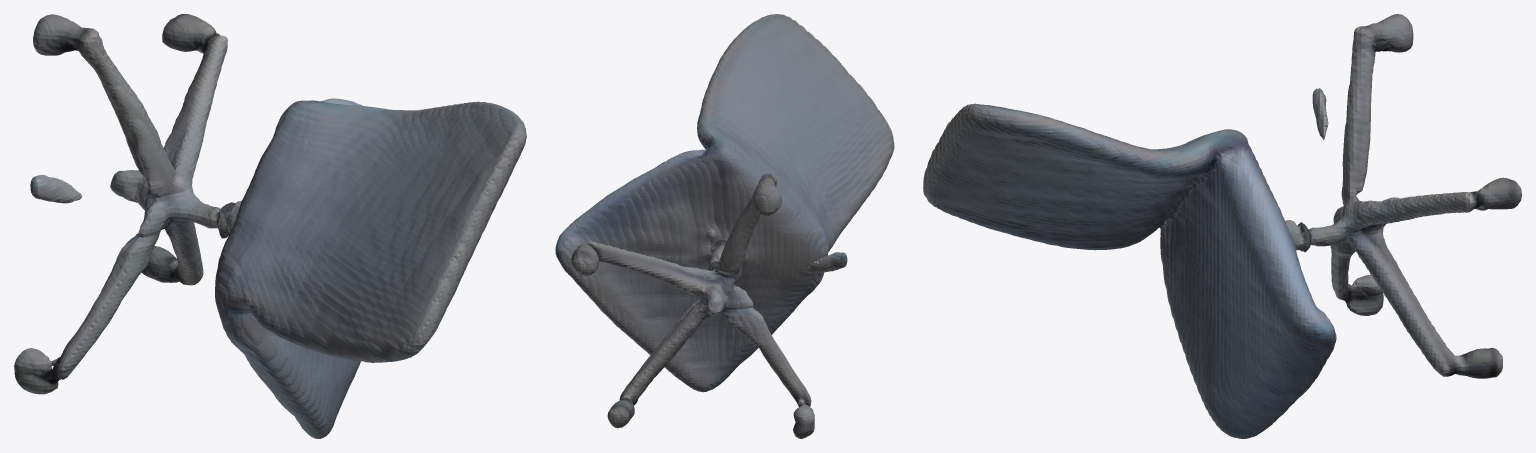
3 views of the same model, side by side, from view 1: azimuth 30°, elevation 25°; view 2: azimuth 150°, elevation 25°; view 3: azimuth 270°, elevation 25° (orthographic). The views are drawn at different scales.
Parts seen in each view (by area): view 1: world; view 2: world; view 3: world.
Part boxes in pixels (x1,y1,x2,y2): world: [14, 14, 526, 438]; world: [555, 14, 894, 438]; world: [923, 14, 1521, 438].
Size of the model in its own units: 0.745 by 0.7131 by 1.09.
